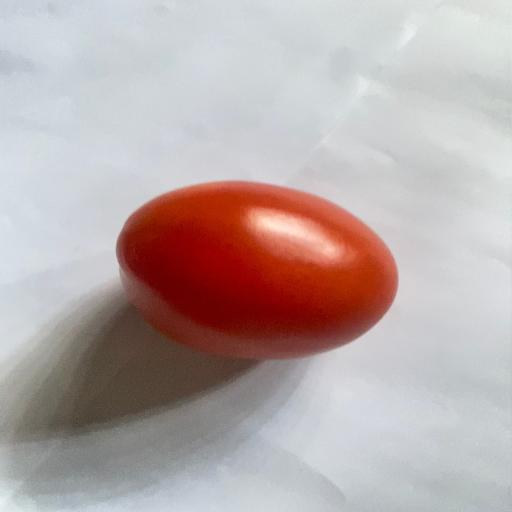ripe: (117, 181, 398, 359)
